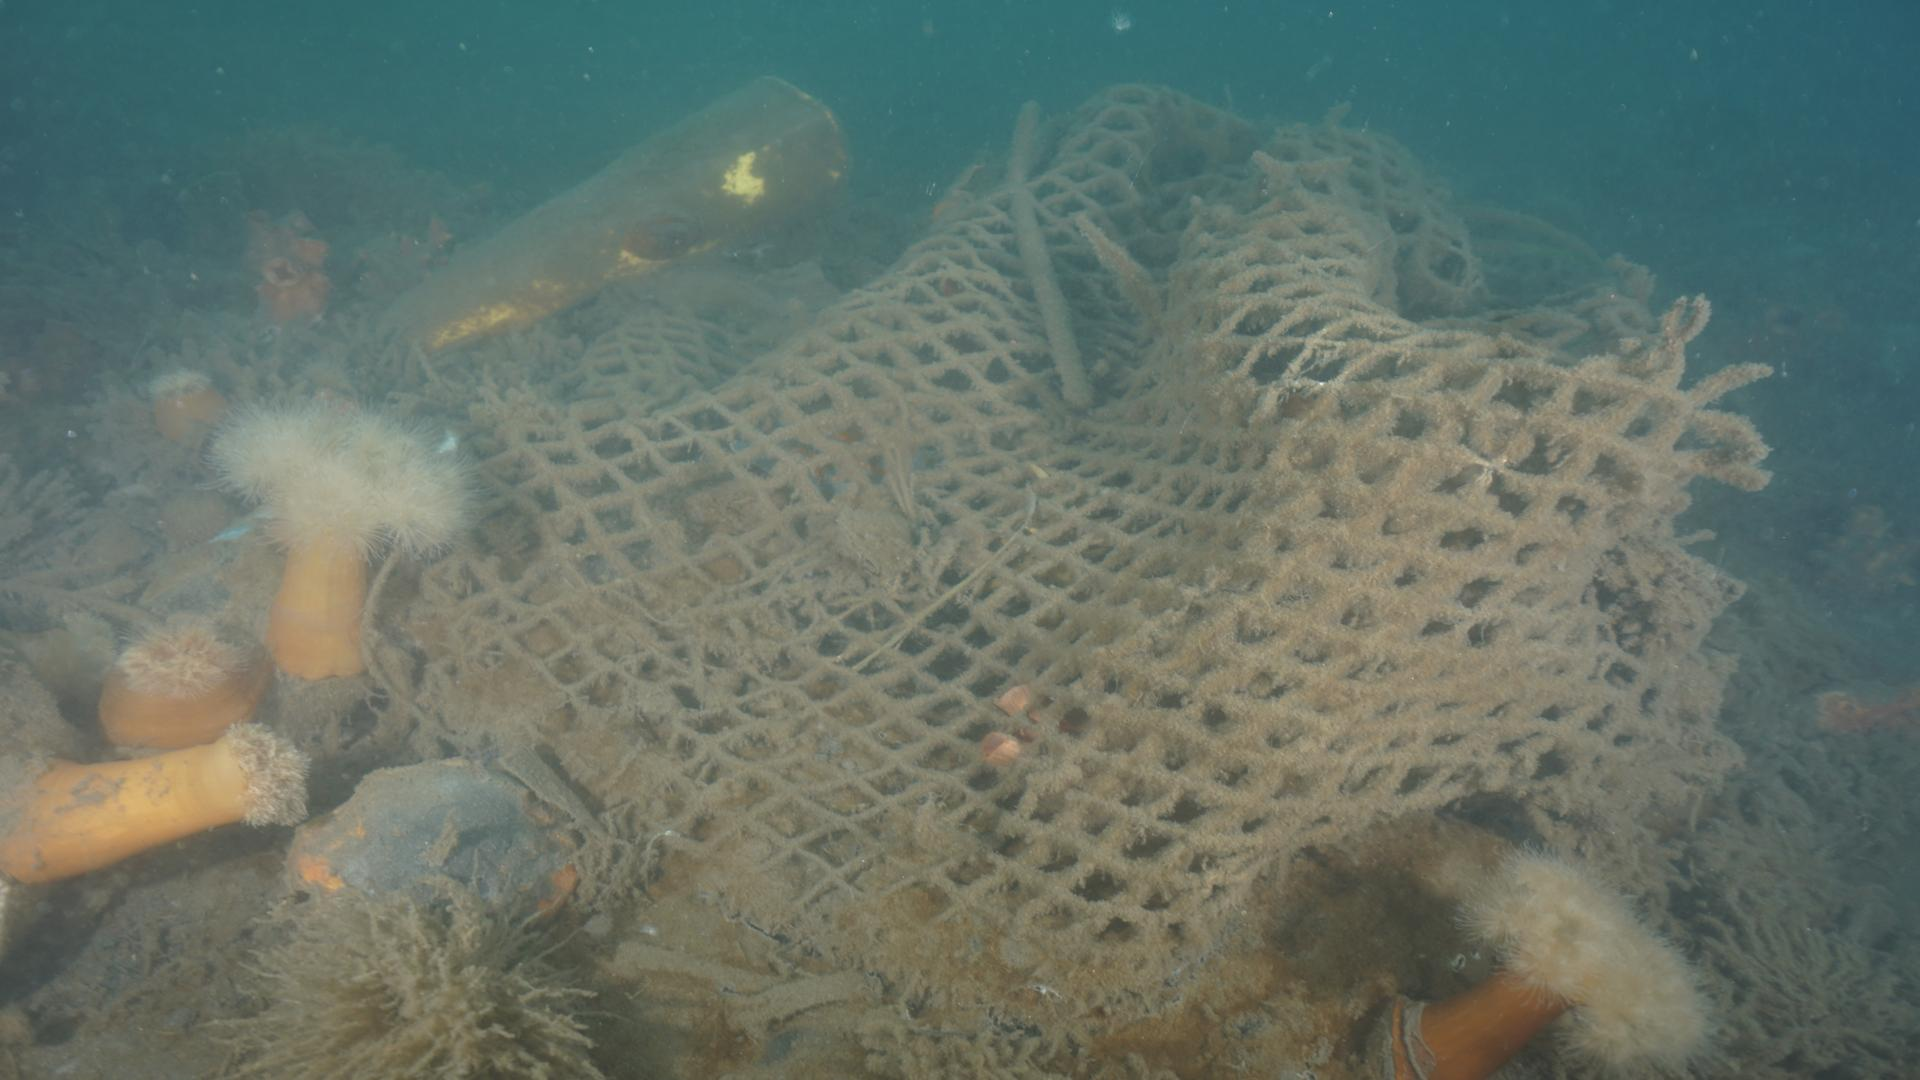fish net: (447, 70, 1768, 1068)
